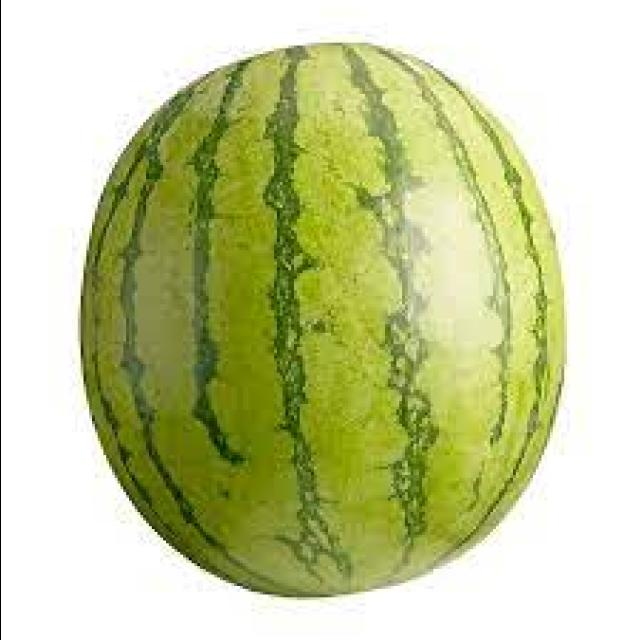watermelon: (80, 45, 570, 598)
